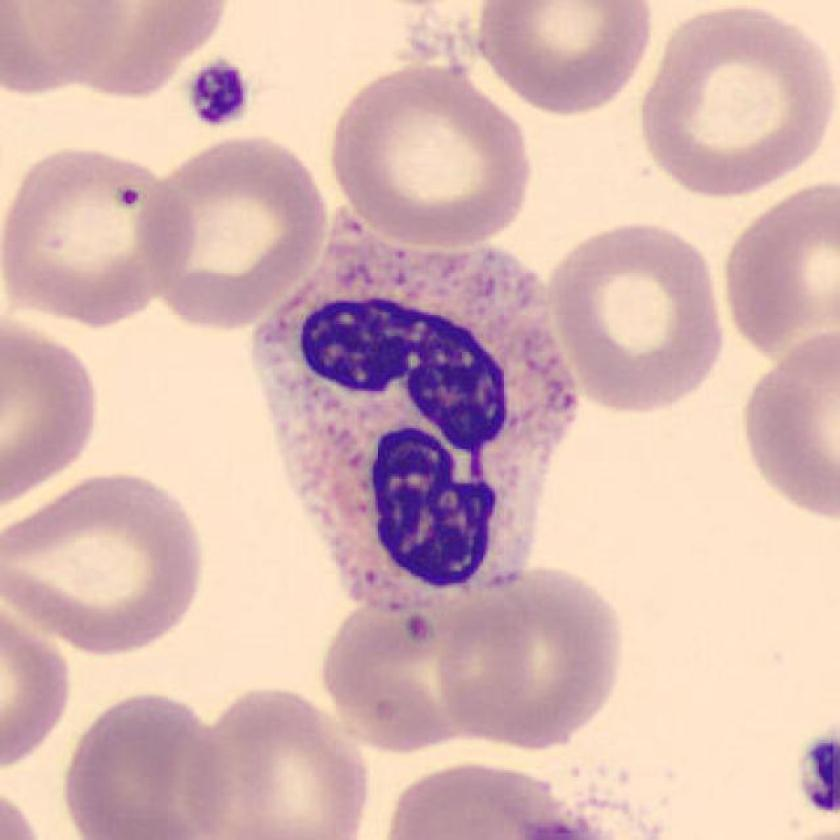neutrophil: (252, 211, 579, 624)
